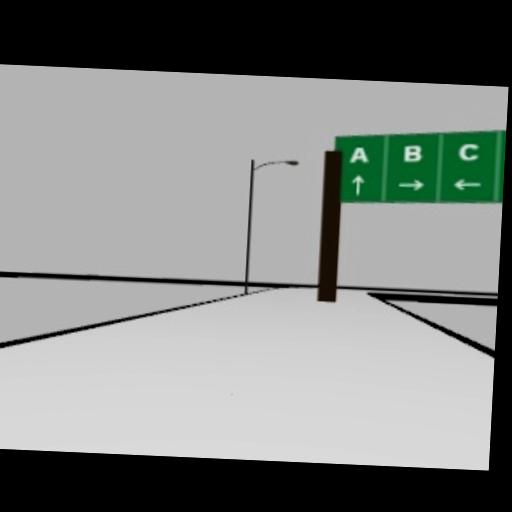A: (350, 146, 370, 165)
B: (402, 143, 423, 163)
C: (458, 142, 481, 162)
Left: (451, 177, 482, 191)
Right: (397, 178, 424, 191)
Straight: (349, 174, 363, 195)
